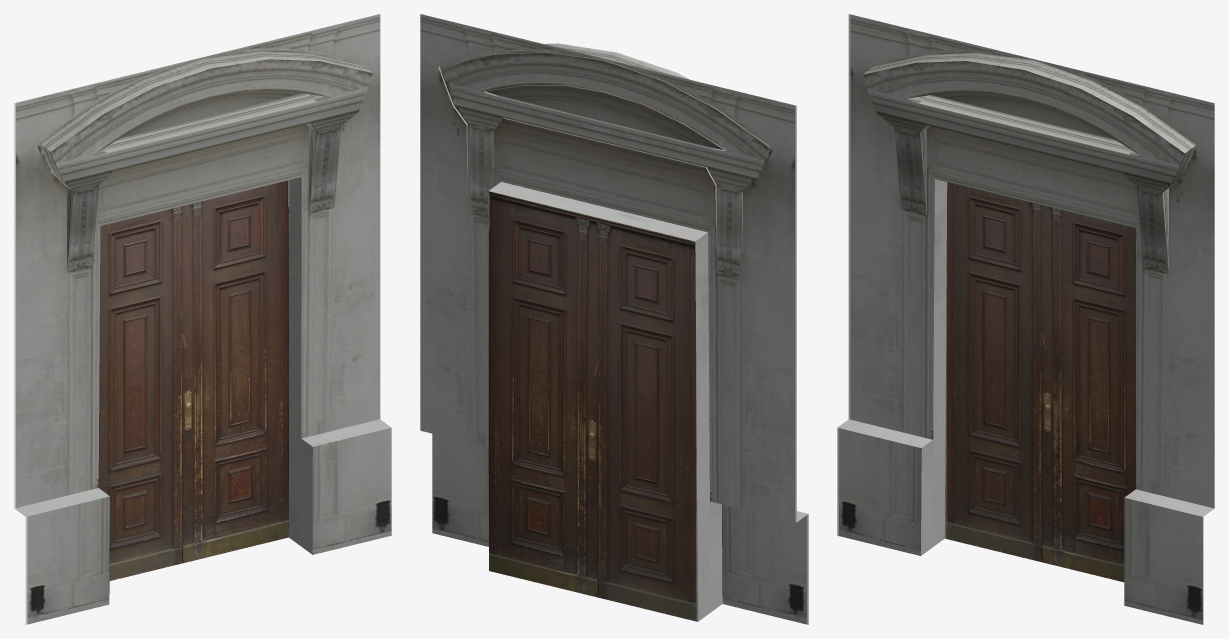
File: door.obj
The picture shows the model from 3 angles, left to right: view 1: azimuth 30°, elevation 25°; view 2: azimuth 150°, elevation 25°; view 3: azimuth 330°, elevation 25°; orthographic projection. The views are drawn at different scales.
Parts seen in each view (by area): view 1: polySurface112; view 2: polySurface112; view 3: polySurface112.
Boxes of the visible parts, left/top/right/bottom form: polySurface112: left=14, top=14, right=391, bottom=624; polySurface112: left=420, top=14, right=808, bottom=624; polySurface112: left=837, top=14, right=1214, bottom=624.
Bounding box in the file's own units: 0.3689 × 0.4945 × 0.0417.
Materials: 1 (1 with a texture image).
